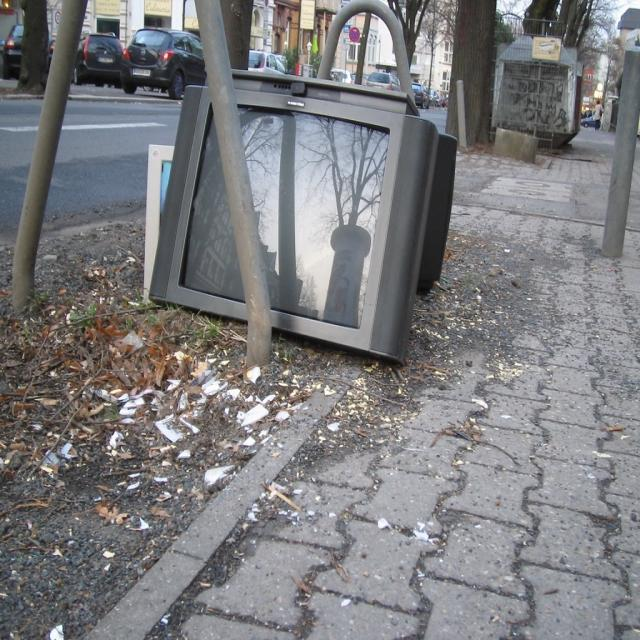E-waste: (170, 67, 483, 342)
